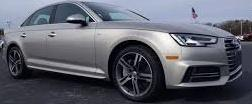Cars: (5, 4, 243, 102)
